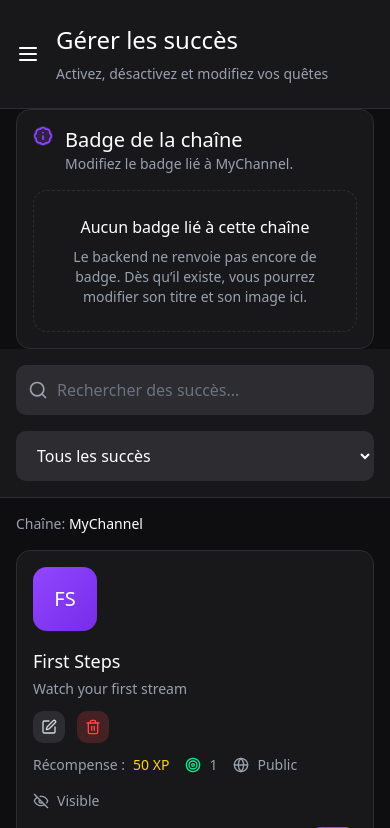
Test: SuccessManagement › should filter achievements by search
The image size is (390, 828).
Check: the heading "First Steps" is shown, box [33,649,120,673]
Type "Chat" into the field with placeholder "Rechercher des succès..." at (195, 390), box [16,365,374,415]
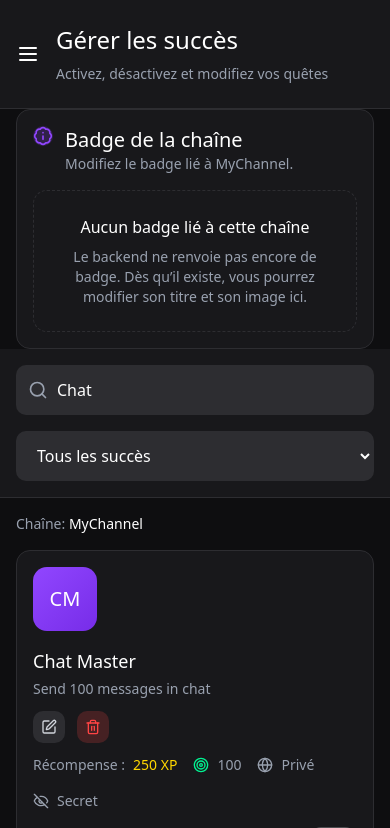
Check: the heading "Chat Master" is shown, box [33,649,136,673]
Check: the heading "First Steps" is gone
